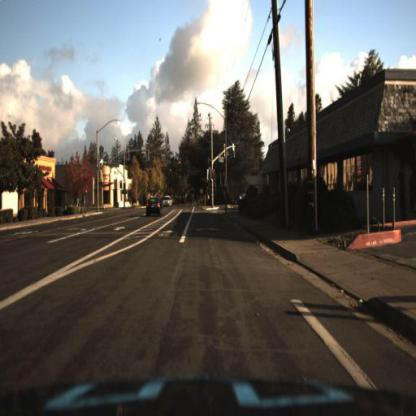biker: (187, 189, 198, 210), (128, 198, 140, 211)
car: (231, 189, 267, 208), (145, 196, 163, 220), (163, 194, 175, 209), (164, 196, 174, 206)
pedestrian: (239, 195, 243, 211)
trafficLight-Red: (210, 167, 218, 181), (178, 159, 184, 172), (178, 161, 183, 173)
trafficLight-RedLeft: (119, 180, 124, 192), (161, 163, 165, 176)
